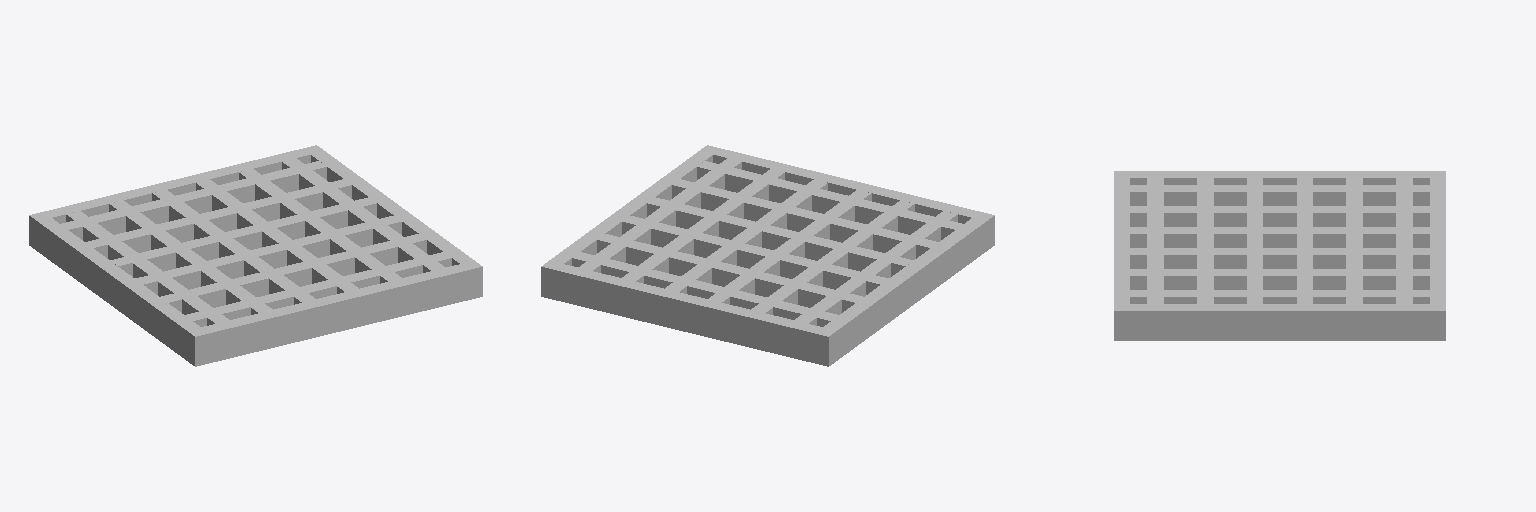
The model's file is Prison tile.obj.
3 views of the same model, side by side, from view 1: azimuth 30°, elevation 25°; view 2: azimuth 150°, elevation 25°; view 3: azimuth 270°, elevation 25° (orthographic).
Visible parts, largest first — view 1: obj_0.008; view 2: obj_0.008; view 3: obj_0.008.
Boxes of the visible parts, <box> form: obj_0.008: <box>29,145,482,366</box>; obj_0.008: <box>541,145,994,366</box>; obj_0.008: <box>1114,171,1445,340</box>.
Size of the model in its own units: 20 by 2 by 20.